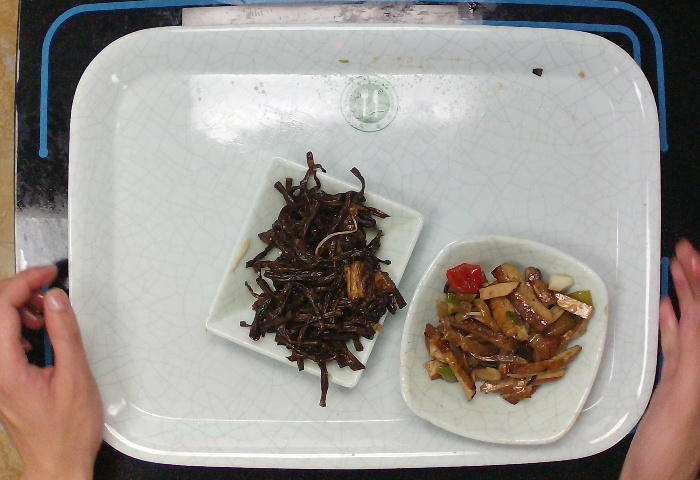WCQzf-Da_Si_Fang_Die: (400, 235, 608, 447)
WCQzf-Ru_Ci_Si_Fang_Die: (204, 149, 423, 389)
